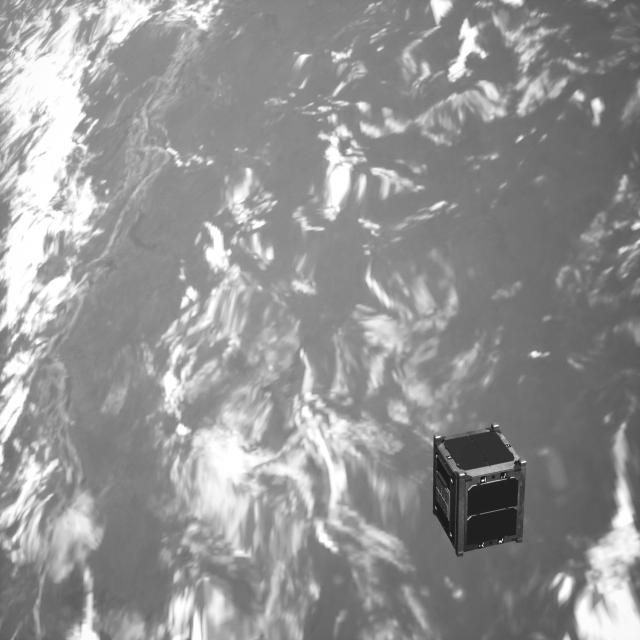satellite: (423, 422, 532, 562)
